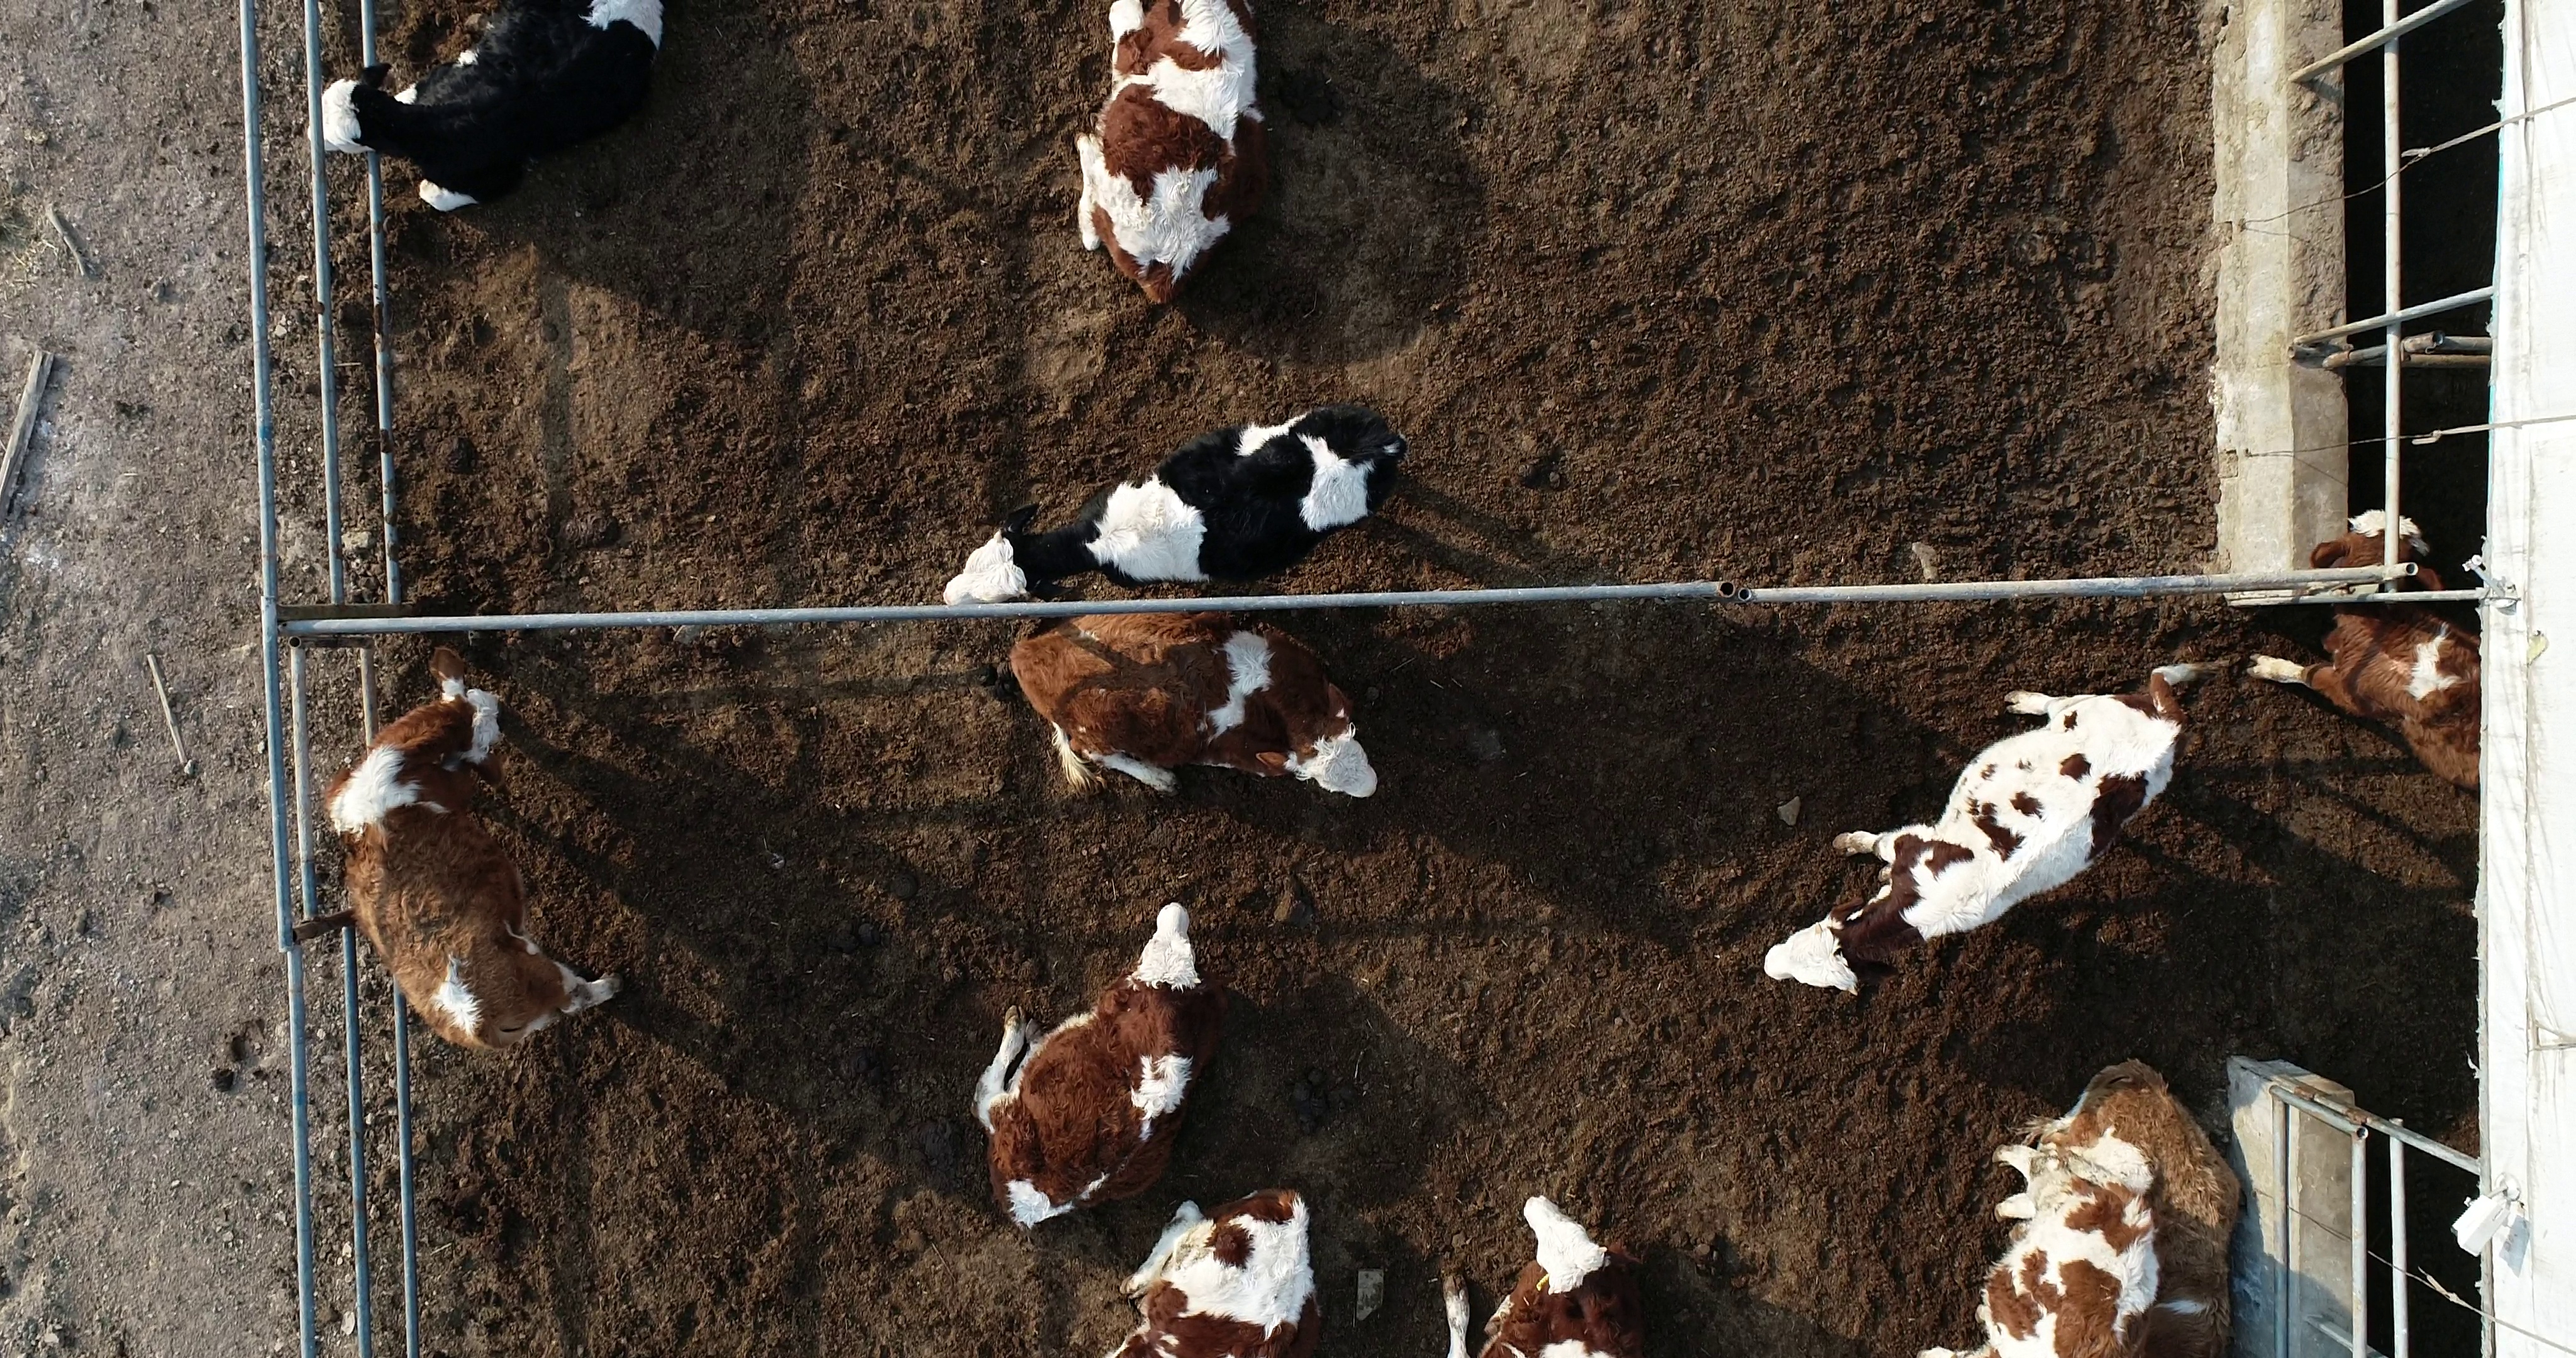cattle: (1758, 658, 2244, 1004), (322, 642, 624, 1058), (937, 397, 1412, 607), (1002, 603, 1383, 811)
